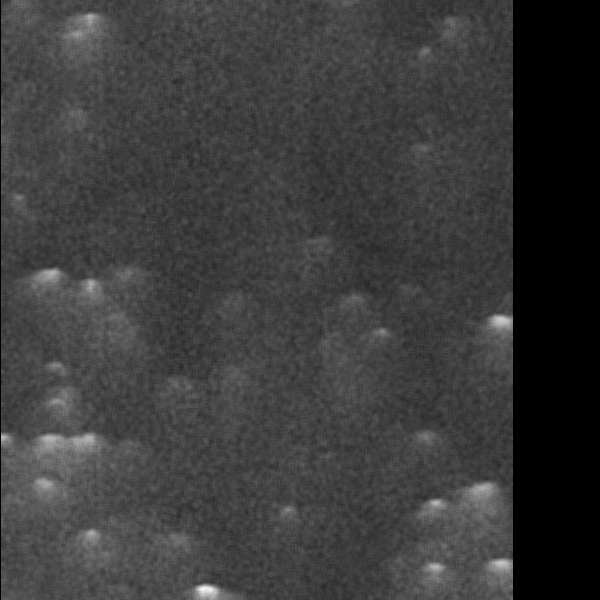spark: (459, 476, 505, 545), (74, 9, 105, 96), (33, 430, 66, 498), (32, 264, 65, 321), (80, 274, 103, 340), (490, 312, 510, 378), (417, 555, 450, 592), (487, 554, 512, 600), (76, 523, 102, 567), (32, 393, 78, 417), (180, 582, 239, 600), (271, 501, 305, 532), (363, 322, 397, 351), (404, 139, 438, 166), (37, 357, 72, 380), (422, 496, 448, 526), (410, 43, 433, 73)
